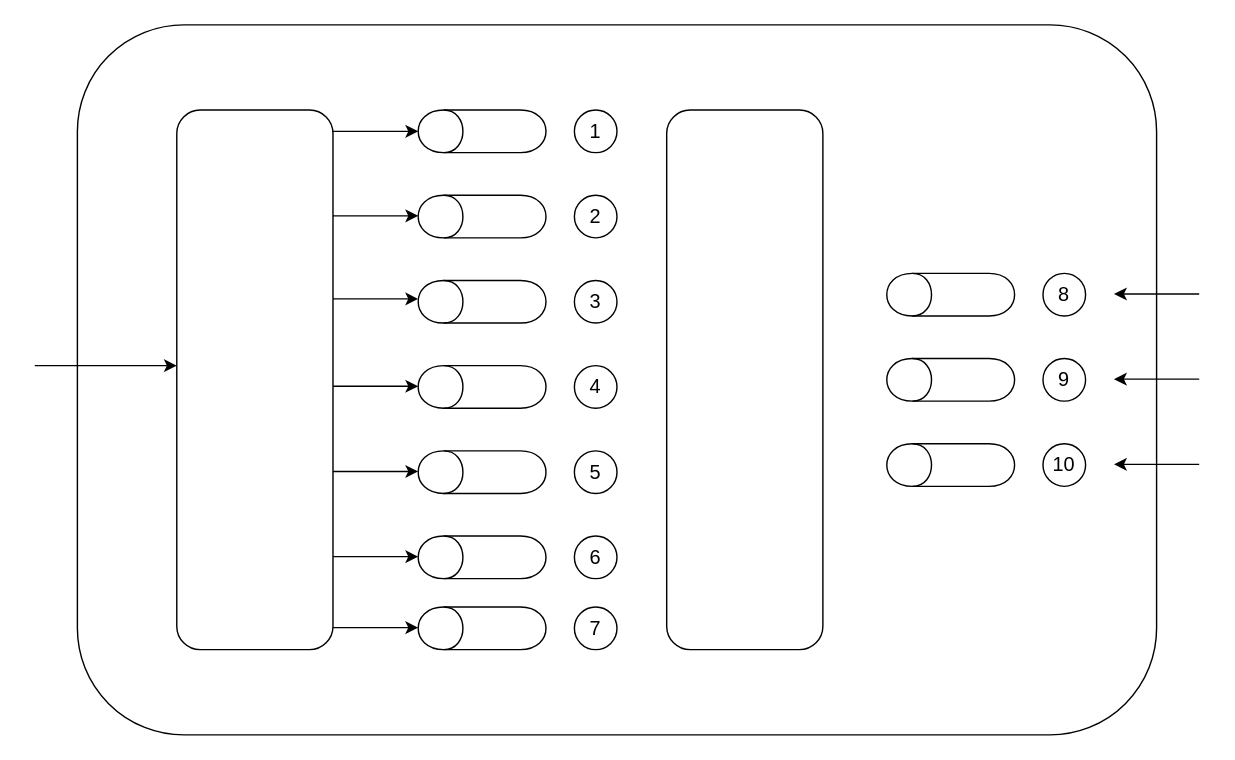
The diagram is 1235 pixels wide and 760 high, and some of its shapes have lost their labels. The shapes that lost their labels are listed below. From the top down, each one's centre as x and y in pixels, then its label:
pixel 254 379: HTTP Server
pixel 744 379: Handlers
